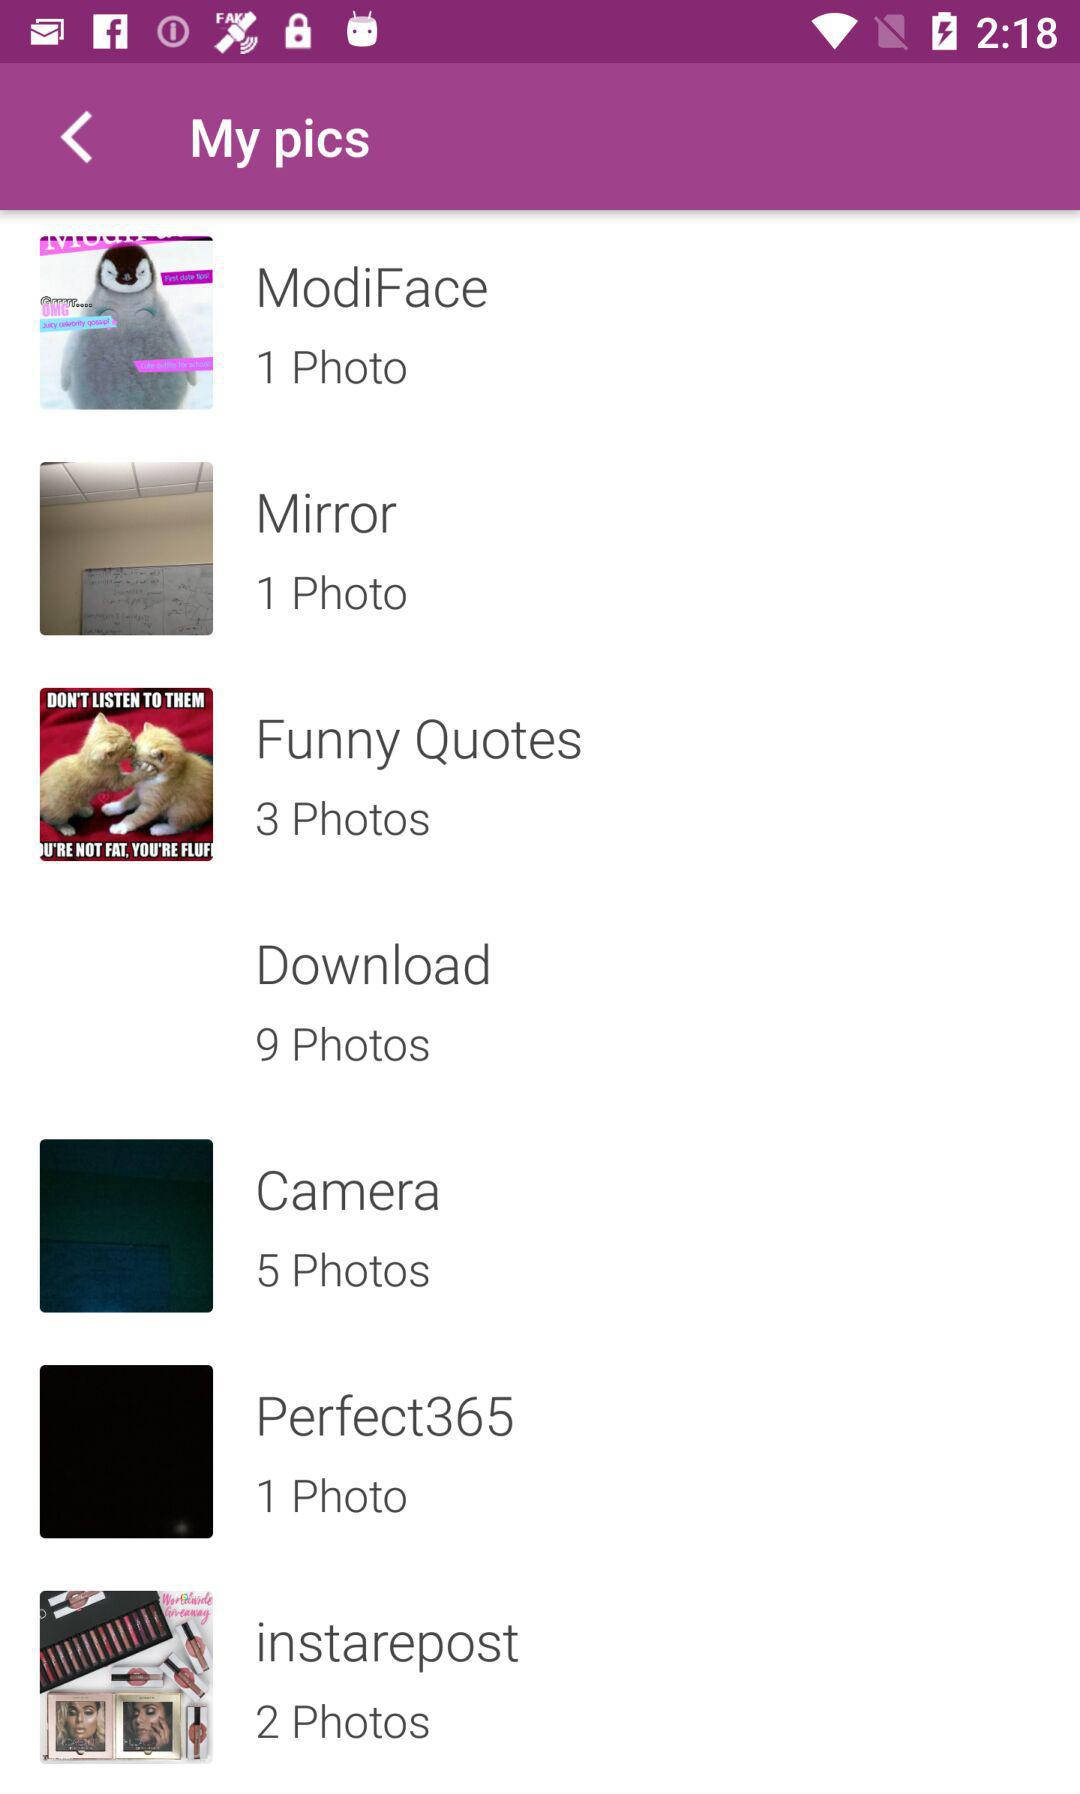Icon: (60, 110, 94, 165)
Image: (40, 236, 215, 411), (40, 1139, 215, 1313), (40, 688, 215, 862), (40, 1592, 215, 1765), (40, 463, 214, 636), (41, 1365, 214, 1538)
Text: (259, 719, 582, 771), (258, 1624, 519, 1674), (259, 1393, 514, 1438), (259, 942, 489, 985), (258, 265, 488, 309), (193, 118, 372, 170), (258, 1170, 439, 1212), (256, 1703, 430, 1740), (258, 1252, 430, 1289), (258, 1026, 430, 1064), (258, 801, 430, 838), (259, 492, 398, 536), (259, 574, 407, 611), (259, 349, 407, 386), (259, 1477, 407, 1513)
Toolbar: (3, 63, 1080, 210)
UpperTaskBar: (1, 1, 1080, 64)
